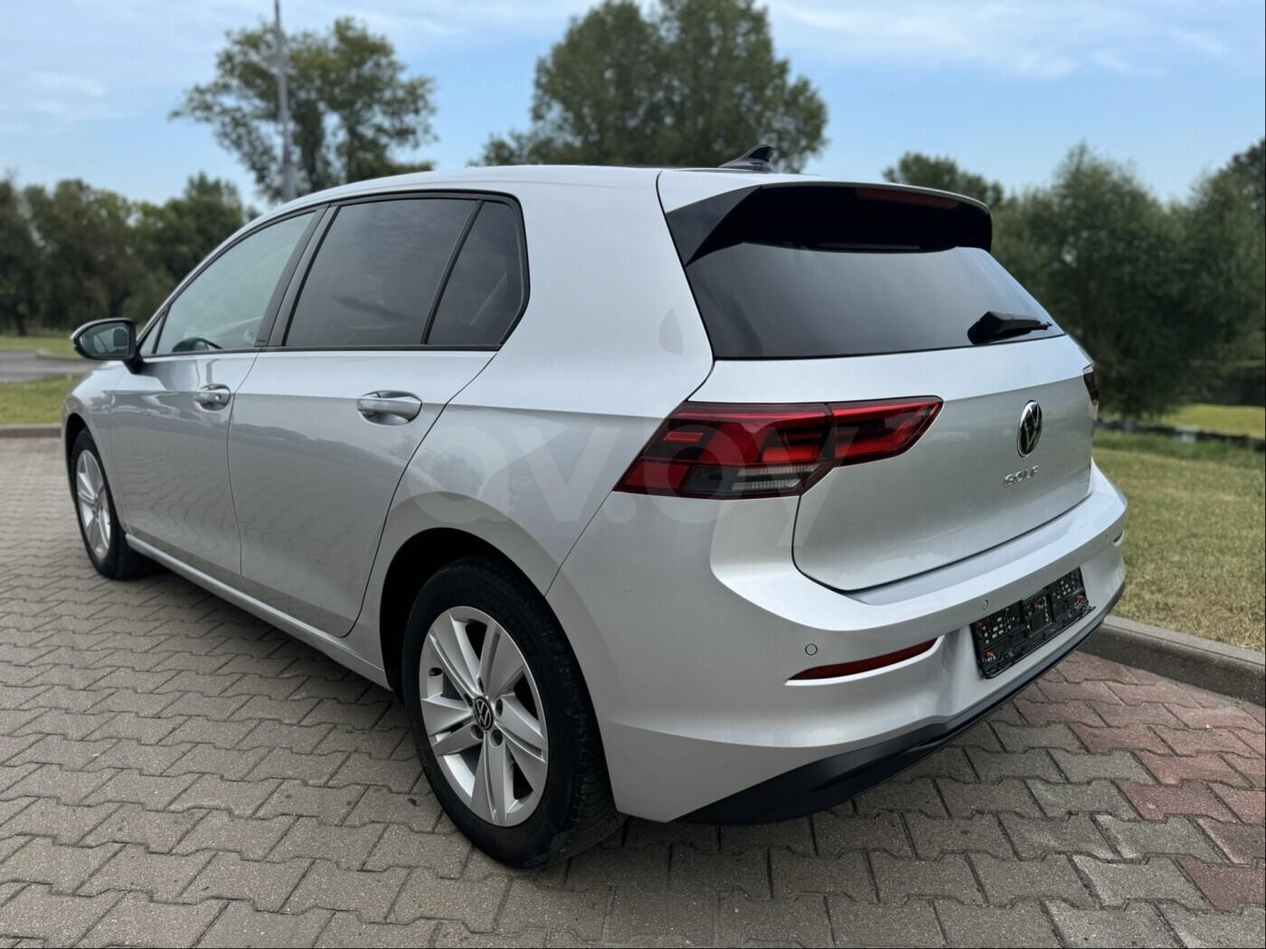Golf_2019: (61, 154, 1137, 841)
